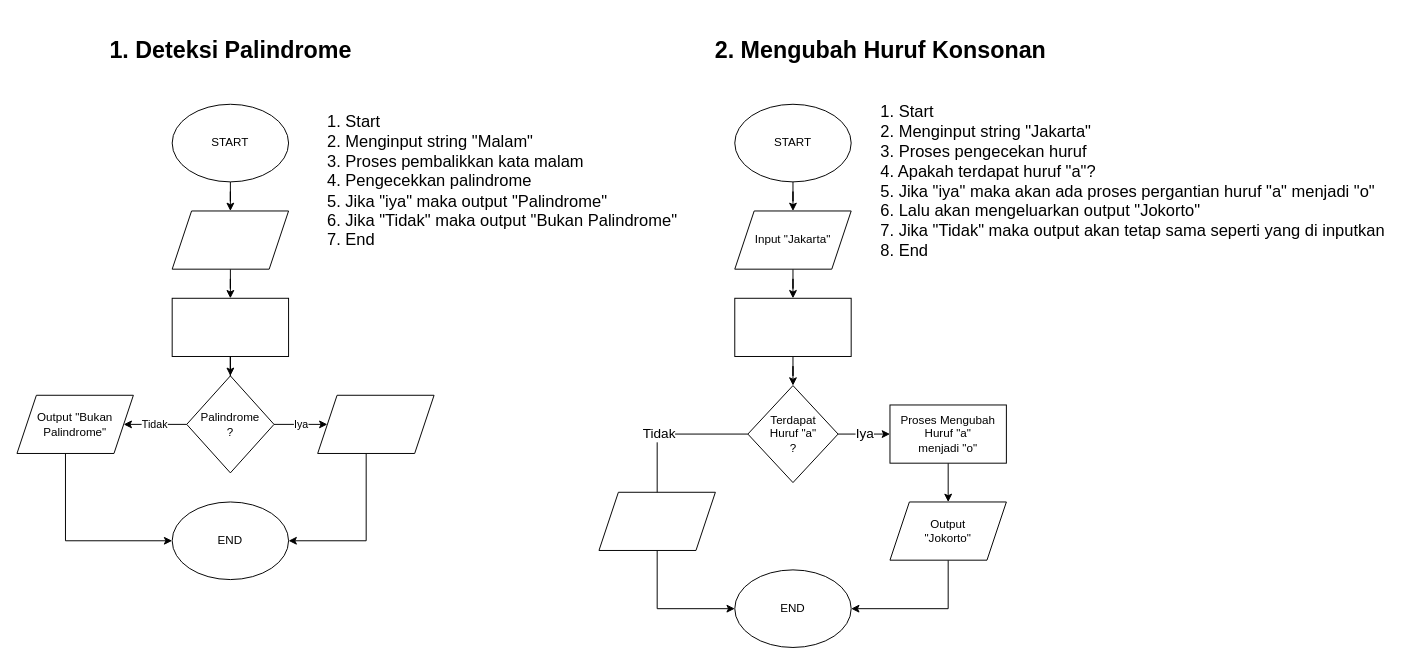
Image size: 1411x664. Some labels were removed from this diagram. Each missing label, with the centre of its shape:
Input "Malam": point 230,239
Output "Jakarta": point 656,520
Output "Palindrome": point 375,423
Proses Membalik Text: point 230,326
Proses Pengecekan Huruf: point 792,326
